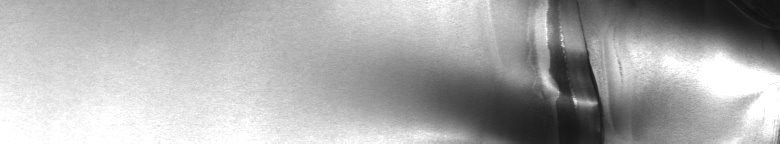ke: (413, 4, 776, 136)
